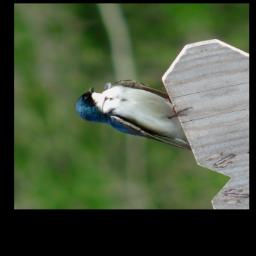Swallow: (67, 67, 209, 172)
